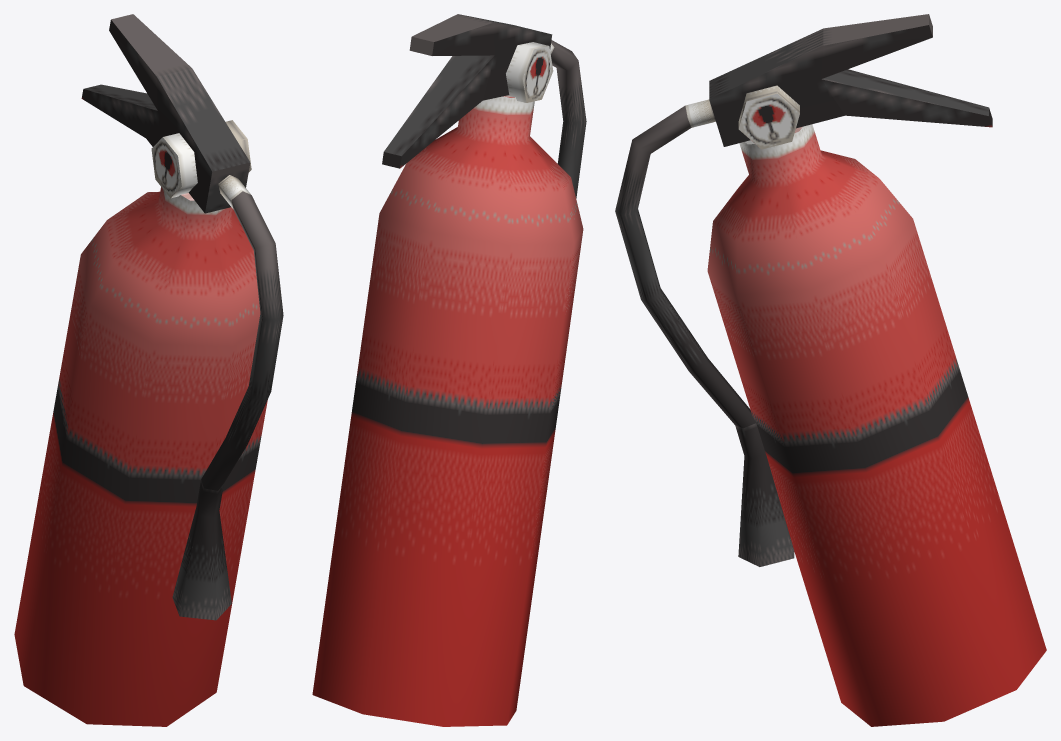
File: Extinguisher_Hand.fbx
The picture shows the model from 3 angles, left to right: view 1: azimuth 30°, elevation 25°; view 2: azimuth 150°, elevation 25°; view 3: azimuth 270°, elevation 25°; orthographic projection.
Parts seen in each view (by area): view 1: Extinguisher001; view 2: Extinguisher001; view 3: Extinguisher001.
Part boxes in pixels (x1=…): Extinguisher001: x1=14, y1=14, x2=283, y2=726; Extinguisher001: x1=312, y1=14, x2=586, y2=726; Extinguisher001: x1=615, y1=14, x2=1046, y2=726.
Size of the model in its own units: 0.1056 by 0.3725 by 0.2135.
